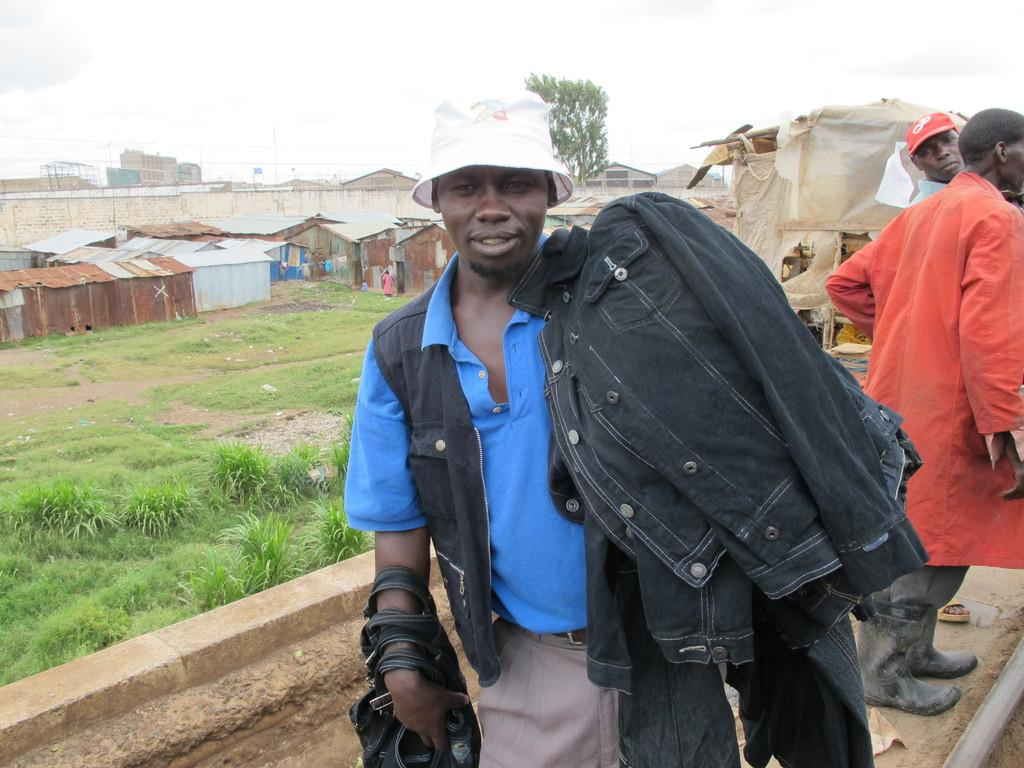Hat: (410, 85, 574, 212)
